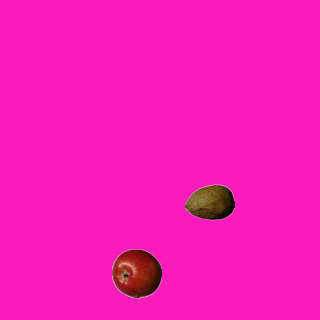Apple Braeburn: (111, 248, 161, 298)
Papaya: (184, 177, 234, 227)
